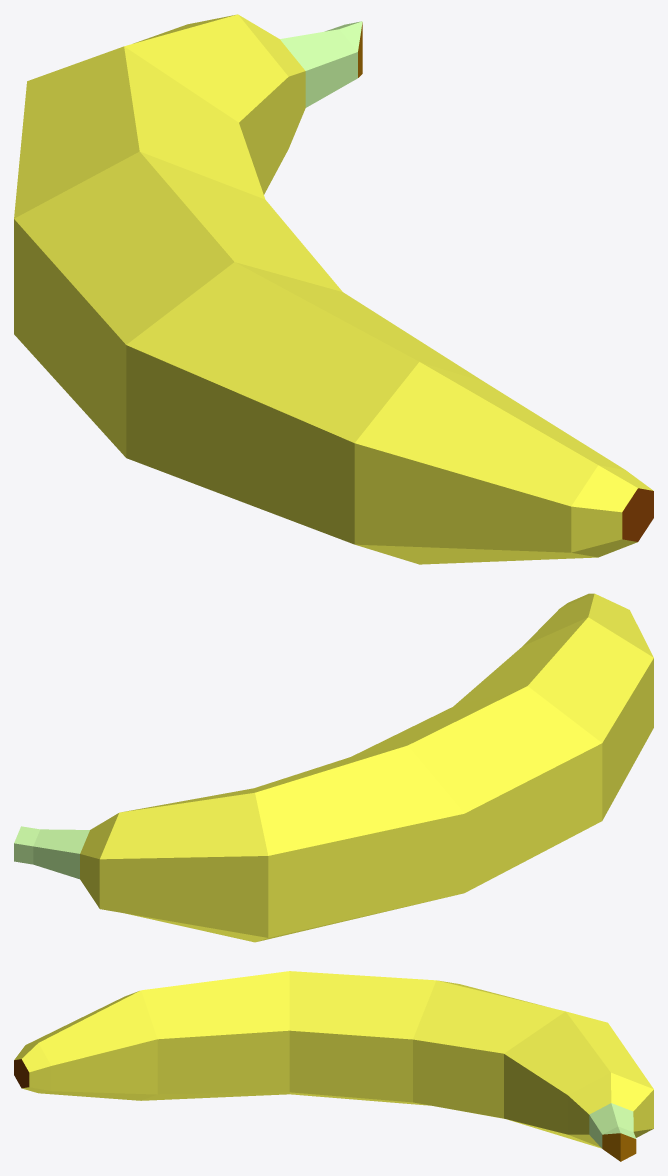
Rendered from banana01.gltf.
3 views of the same model, one above another, from view 1: azimuth 30°, elevation 25°; view 2: azimuth 150°, elevation 25°; view 3: azimuth 270°, elevation 25° (orthographic). The views are drawn at different scales.
Parts seen in each view (by area): view 1: Cylinder; view 2: Cylinder; view 3: Cylinder.
Boxes of the visible parts, x1=… form: Cylinder: x1=14, y1=14, x2=653, y2=564; Cylinder: x1=14, y1=593, x2=653, y2=942; Cylinder: x1=14, y1=971, x2=653, y2=1161.
Bounding box in the file's own units: 0.1105 × 0.0451 × 0.208.
Materials: 1 (1 with a texture image).
